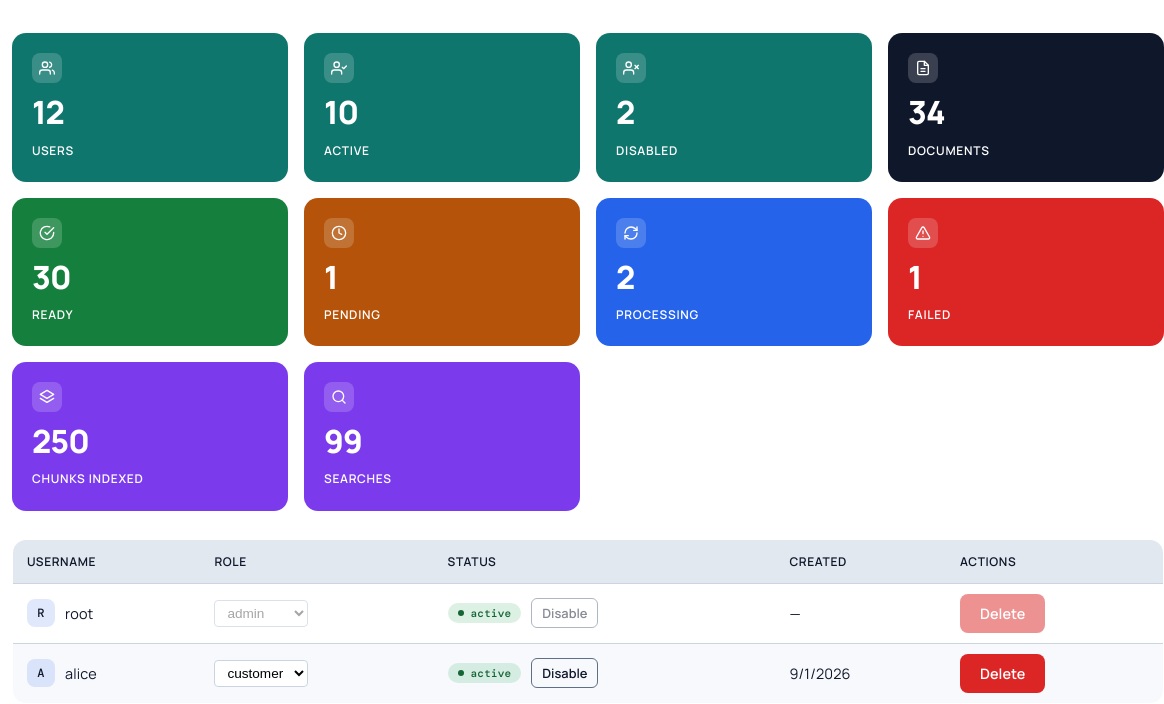
Test: AdminPage › disables a user via the activation toggle
This screenshot has width=1164, height=704.
(page scrolled)
Step 1. Click the button with aria-label "Disable alice" → (565, 673), box top-left (531, 658), bottom-right (598, 688)
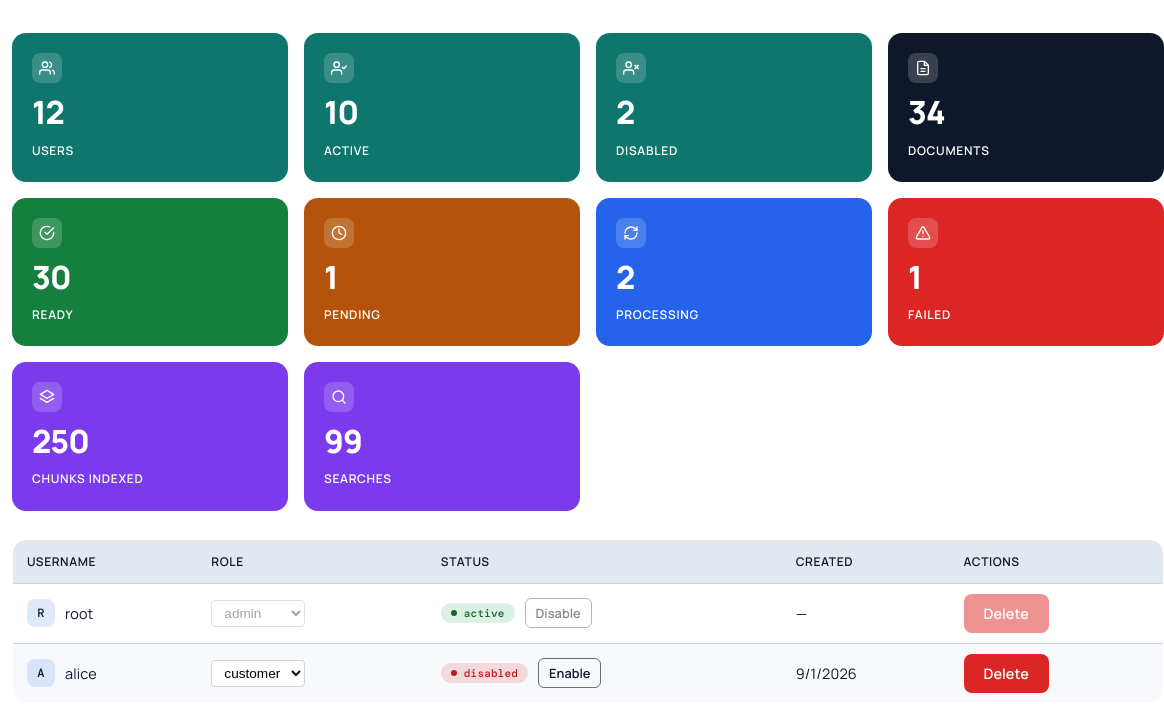
Result: the text "disabled" is shown at top-left (441, 663), bottom-right (528, 683)
Result: the button with aria-label "Enable alice" is shown at top-left (538, 658), bottom-right (602, 688)
